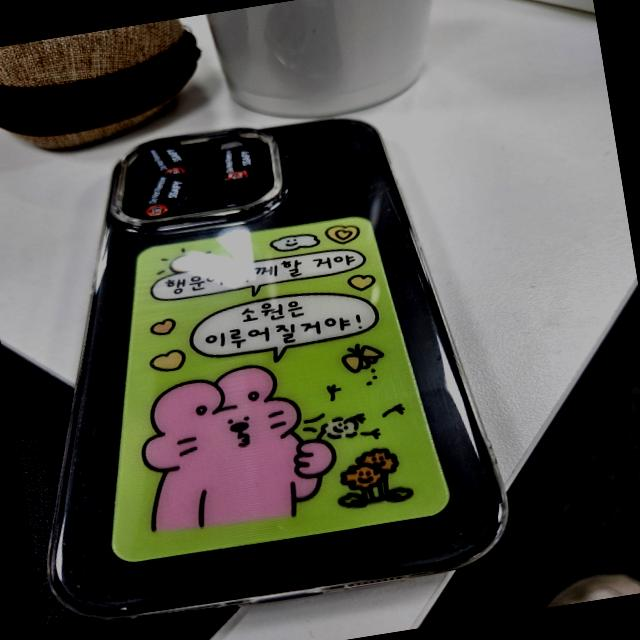phone: (0, 96, 515, 633)
sticker: (132, 173, 196, 222), (144, 136, 193, 180), (216, 143, 260, 183)
